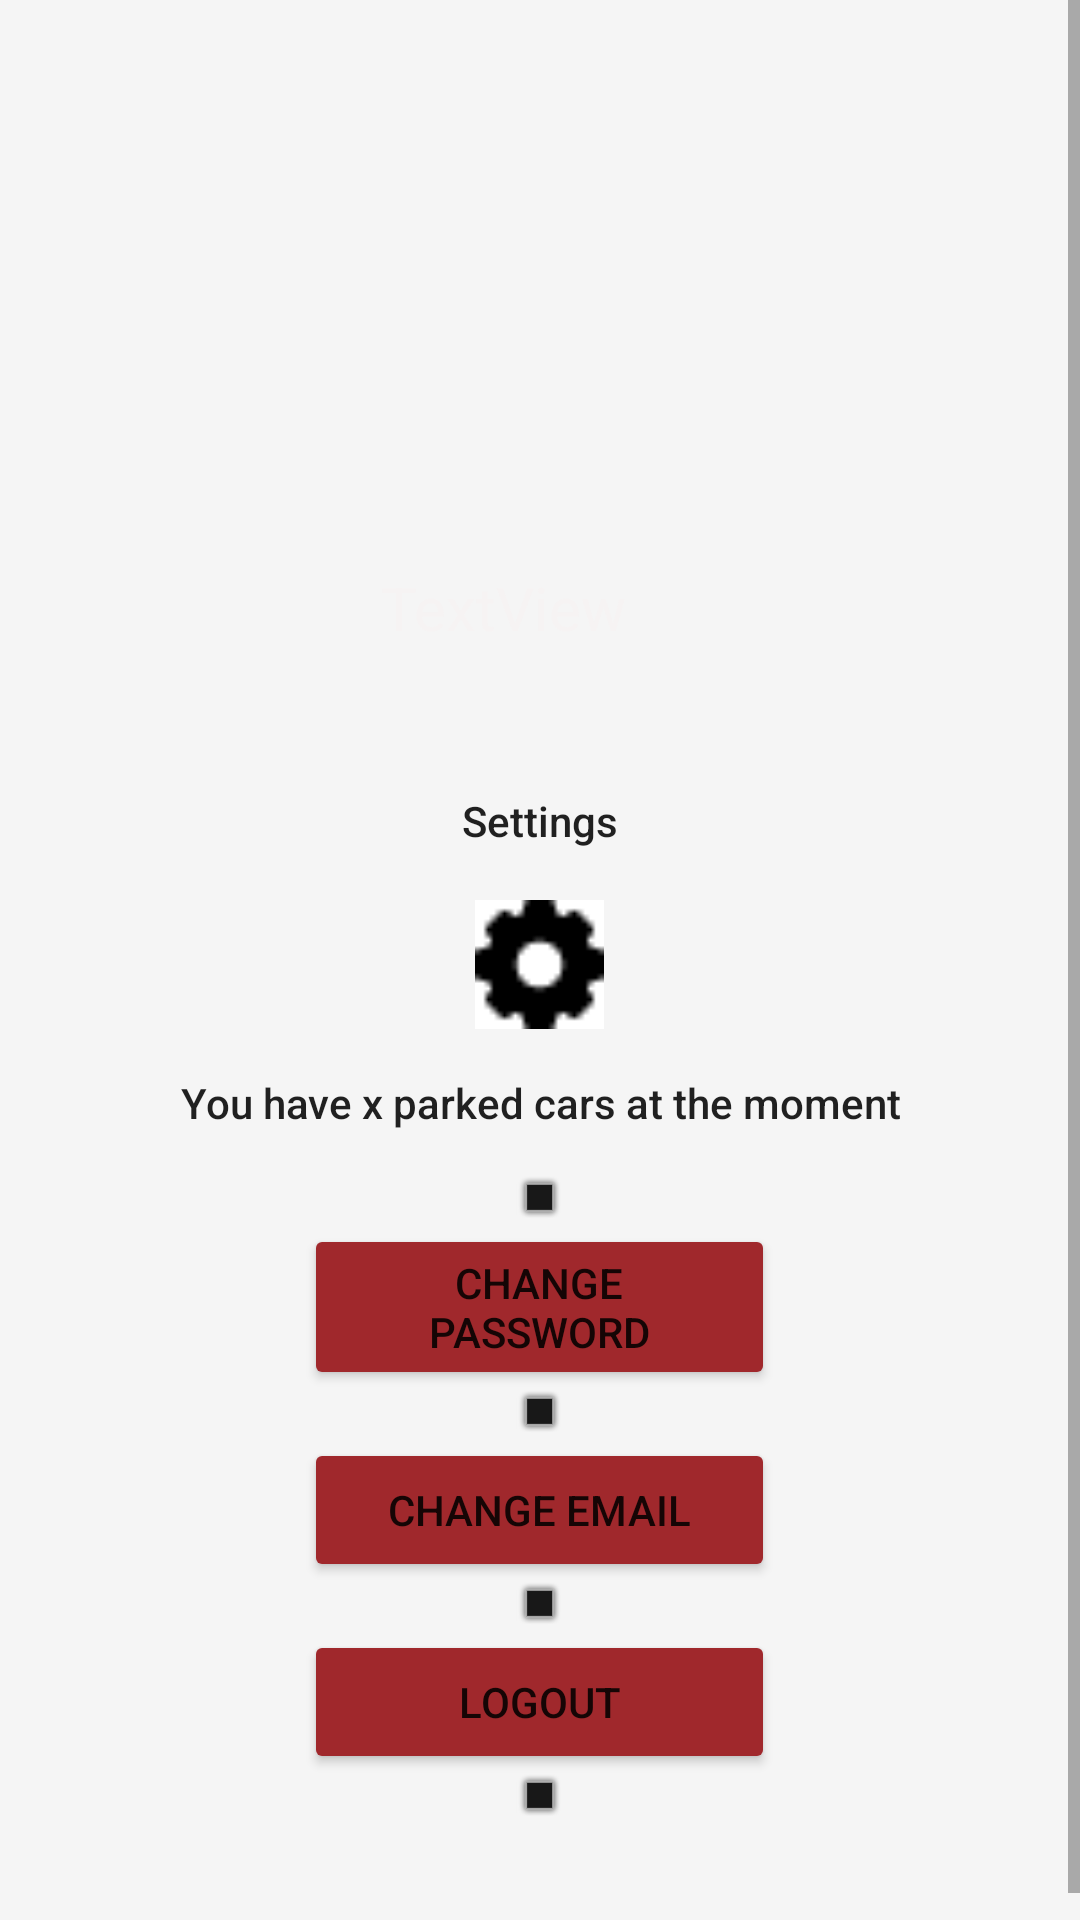

Where icons sit on this 1080px x 1920px app screen, as (x1, y1, x2, y2):
gear: (475, 900, 604, 1029)
